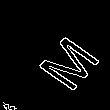M_NW: (17, 21, 93, 89)
